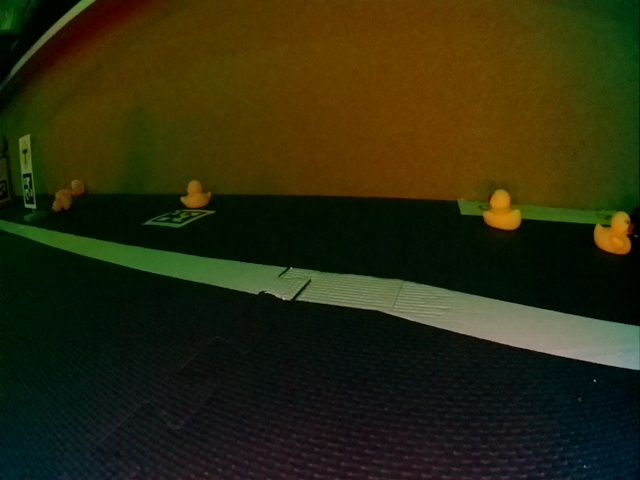Duckie: (595, 211, 632, 254), (484, 190, 522, 229), (182, 181, 212, 207), (54, 189, 70, 207), (69, 180, 84, 192)
Intersection sign: (18, 136, 31, 170)
QR code: (146, 209, 211, 226), (22, 173, 35, 206)
